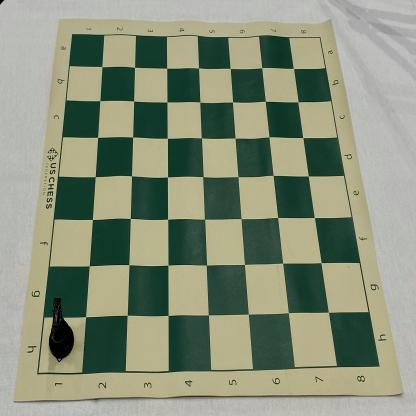black-knight: (48, 298, 74, 360)
